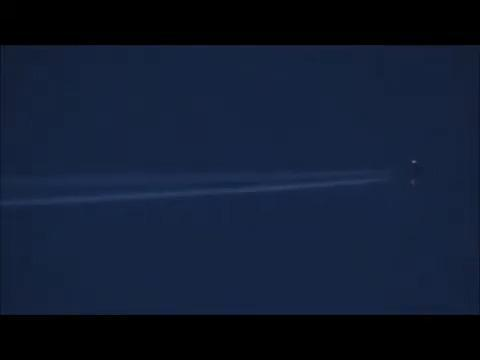Plane: (94, 147, 438, 217)
